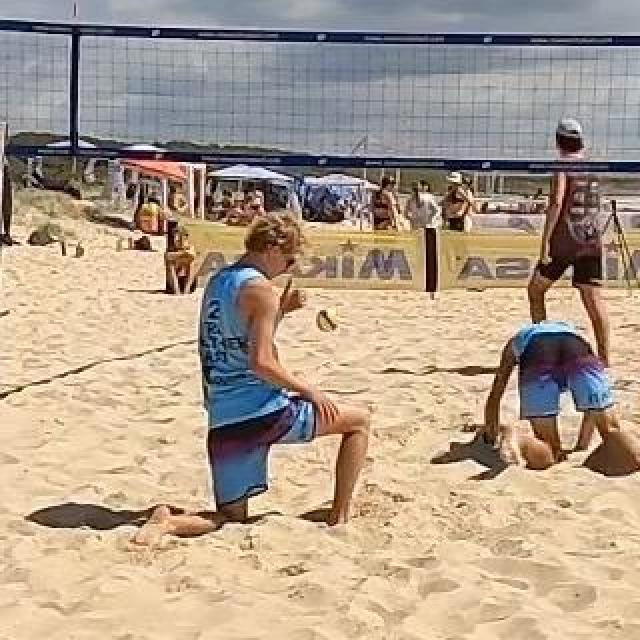volleyball: (315, 308, 339, 332)
